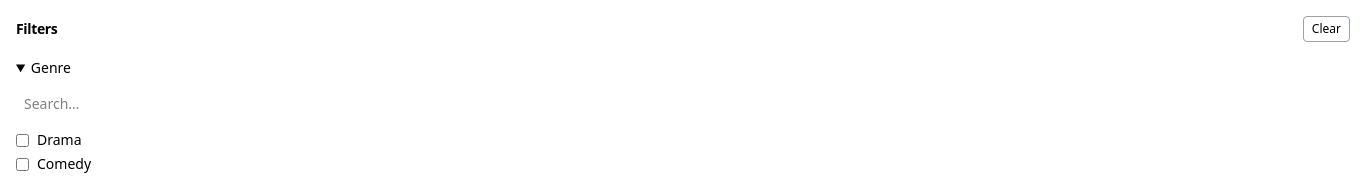
Scenario: Filters › filters genres based on search input
Type "com" into the search field with placeholder "Search…" at (683, 104), box [16,86,1350,122]
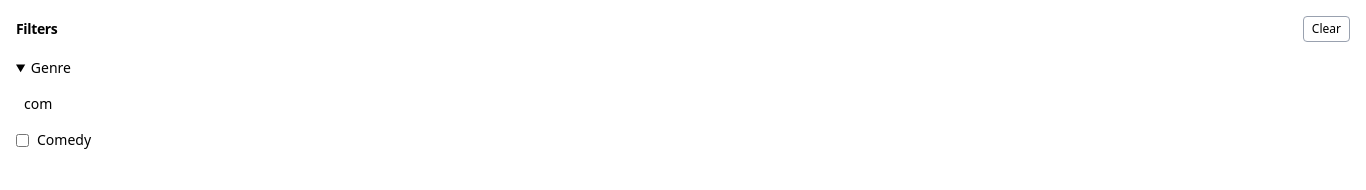
Expected: the checkbox labelled "Comedy" is shown, [16,134,29,146]
Now the label labelled "Drama" is gone
